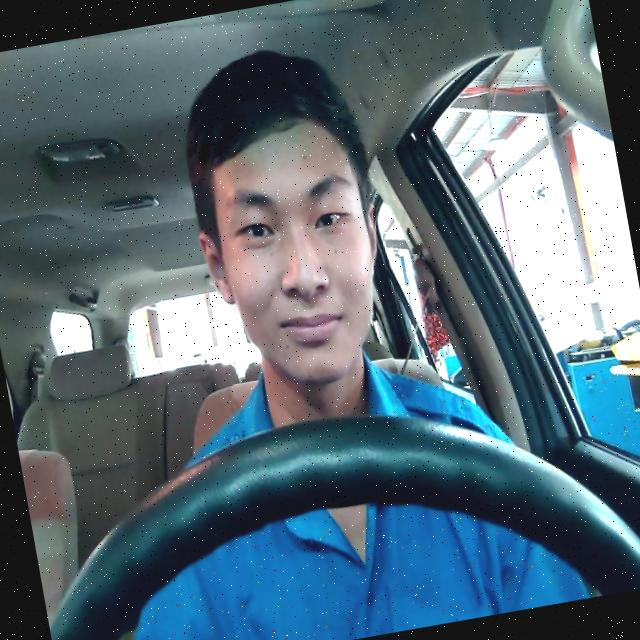focused: (178, 110, 402, 400)
